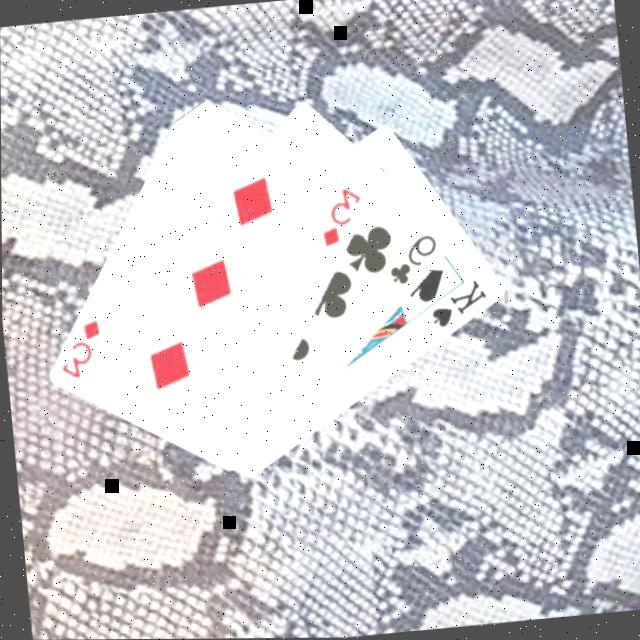3D: (54, 316, 109, 384), (316, 185, 369, 252)
9C: (384, 232, 444, 290)
KS: (426, 278, 493, 334)
